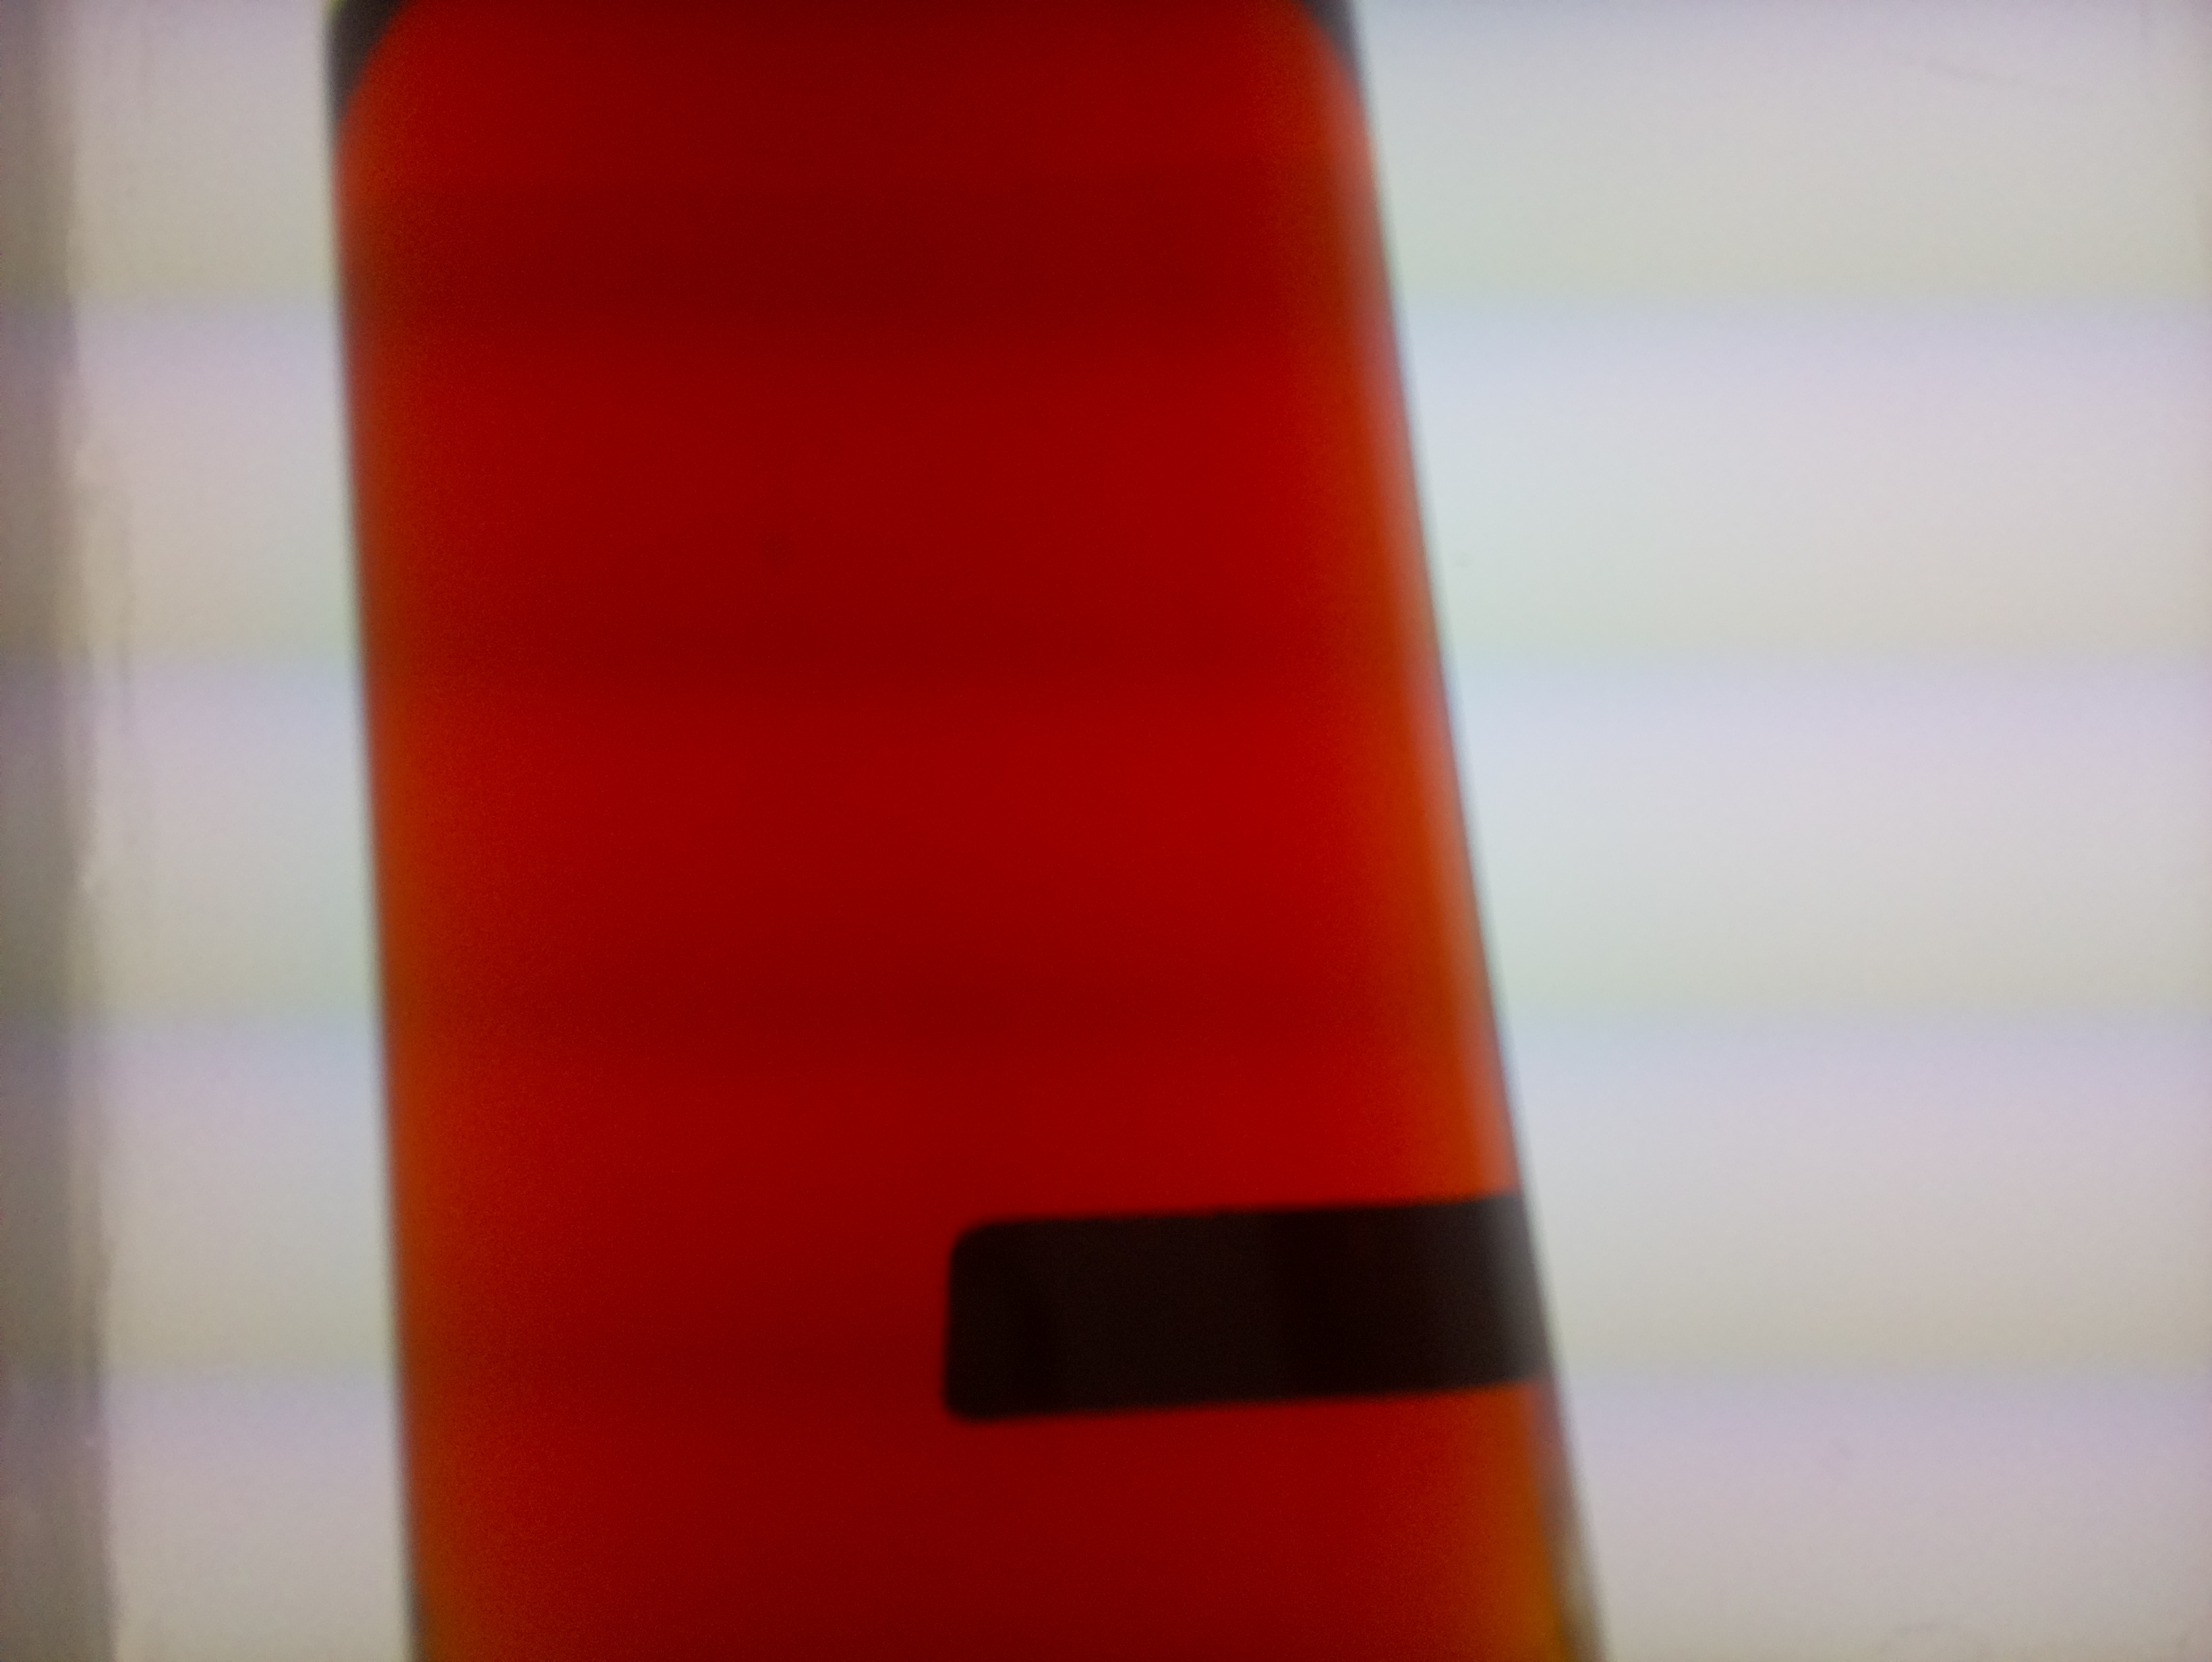colored_area: (346, 2, 1587, 1634)
